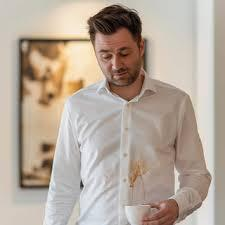coffee: (129, 160, 148, 189)
